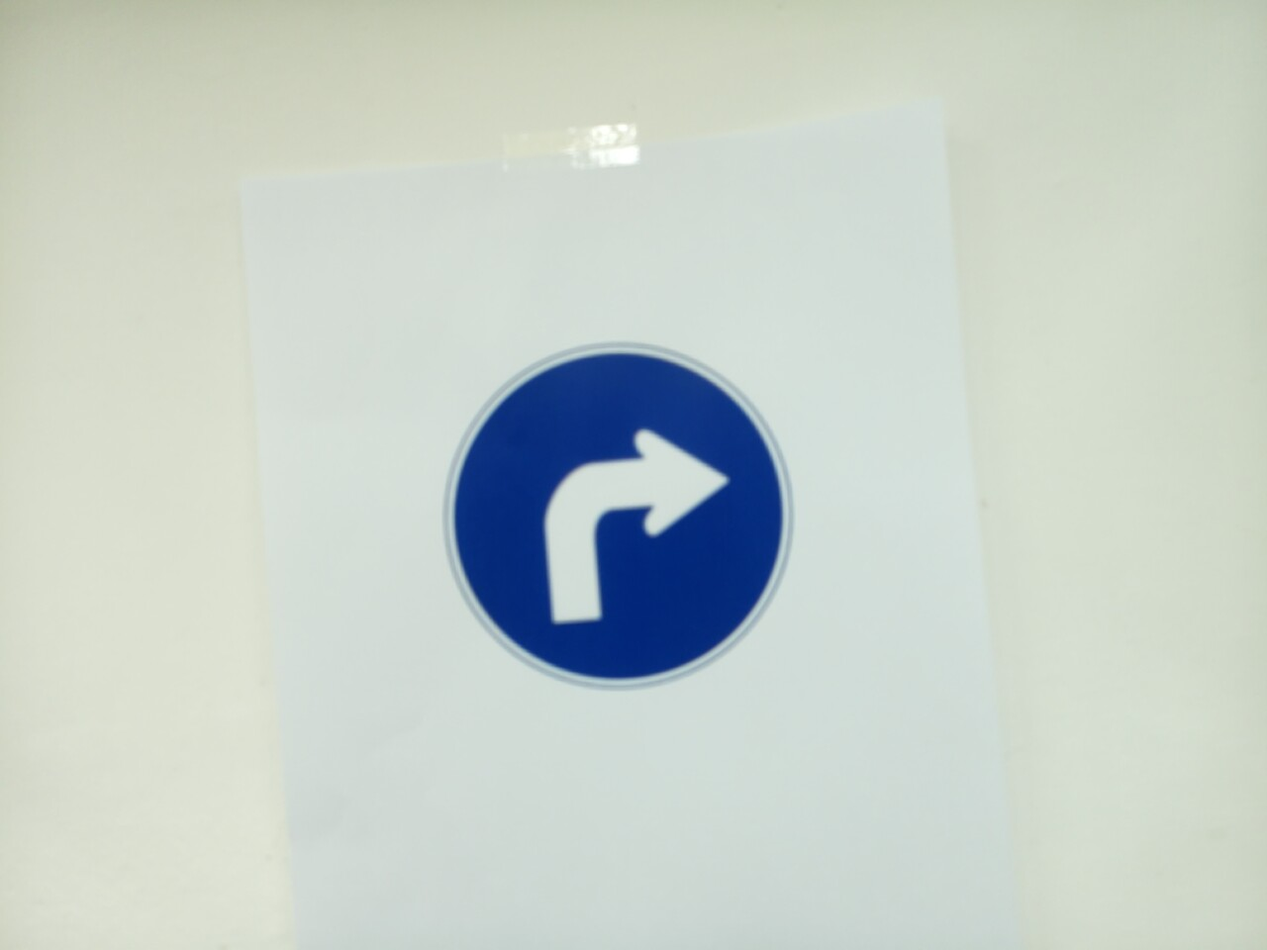right_turn: (444, 343, 793, 689)
